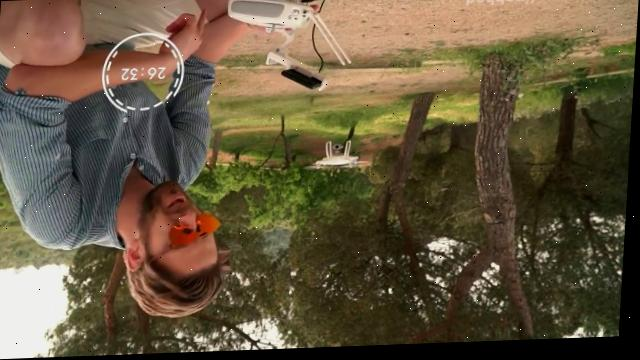drone: (304, 140, 372, 174)
